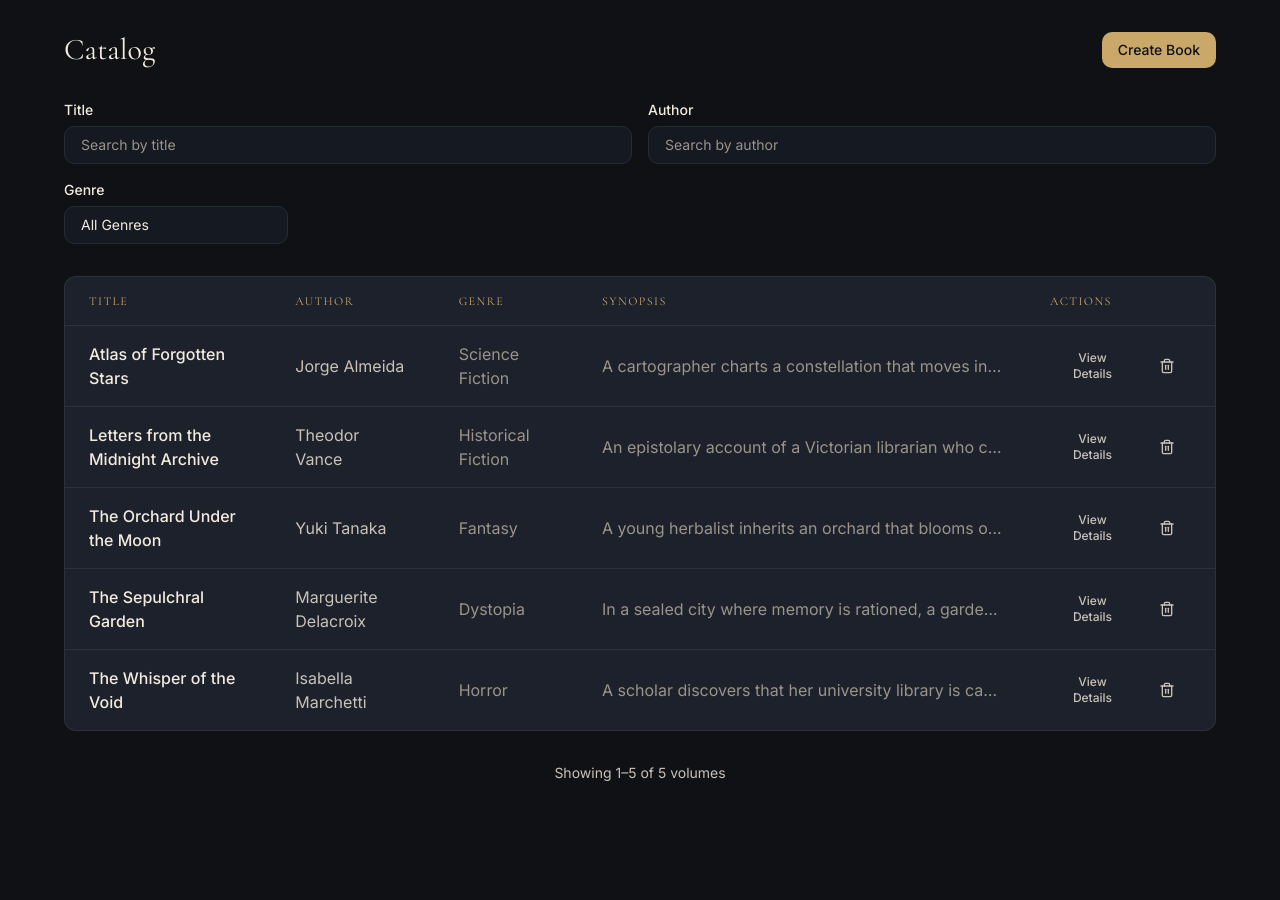
it: BooksPage › deletes multiple books sequentially
Expected: the text "The Whisper of the Void" is shown, [65,650,271,730]
Expected: the number of rows is 6, [65,277,1215,326]; [65,326,1215,406]; [65,406,1215,488]; [65,488,1215,568]; [65,568,1215,650]; [65,650,1215,730]
Click the button named "Delete The Whisper of the Void": click(1167, 690) [1143,674,1191,706]
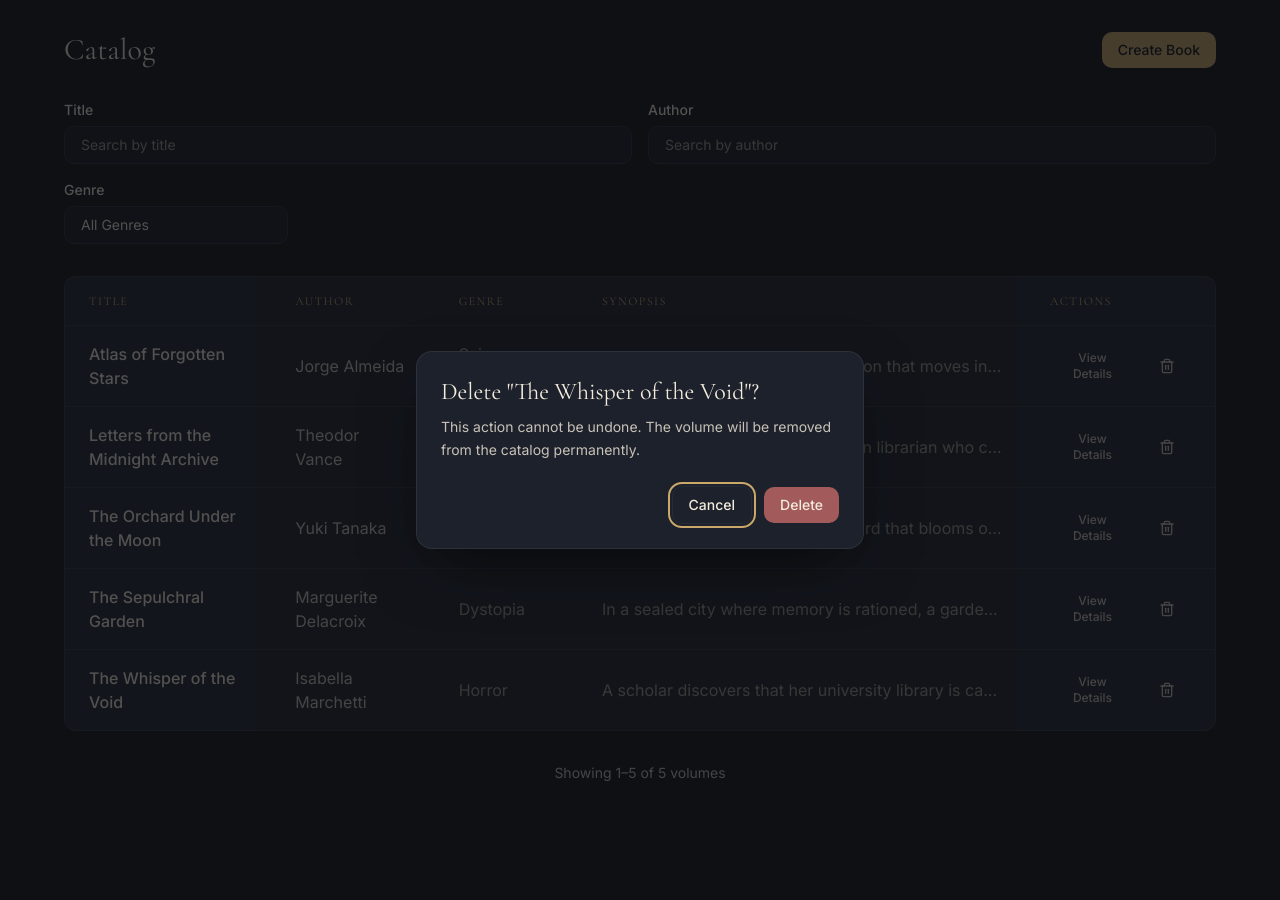
Click the button "Delete": click(802, 505) [764,487,839,523]
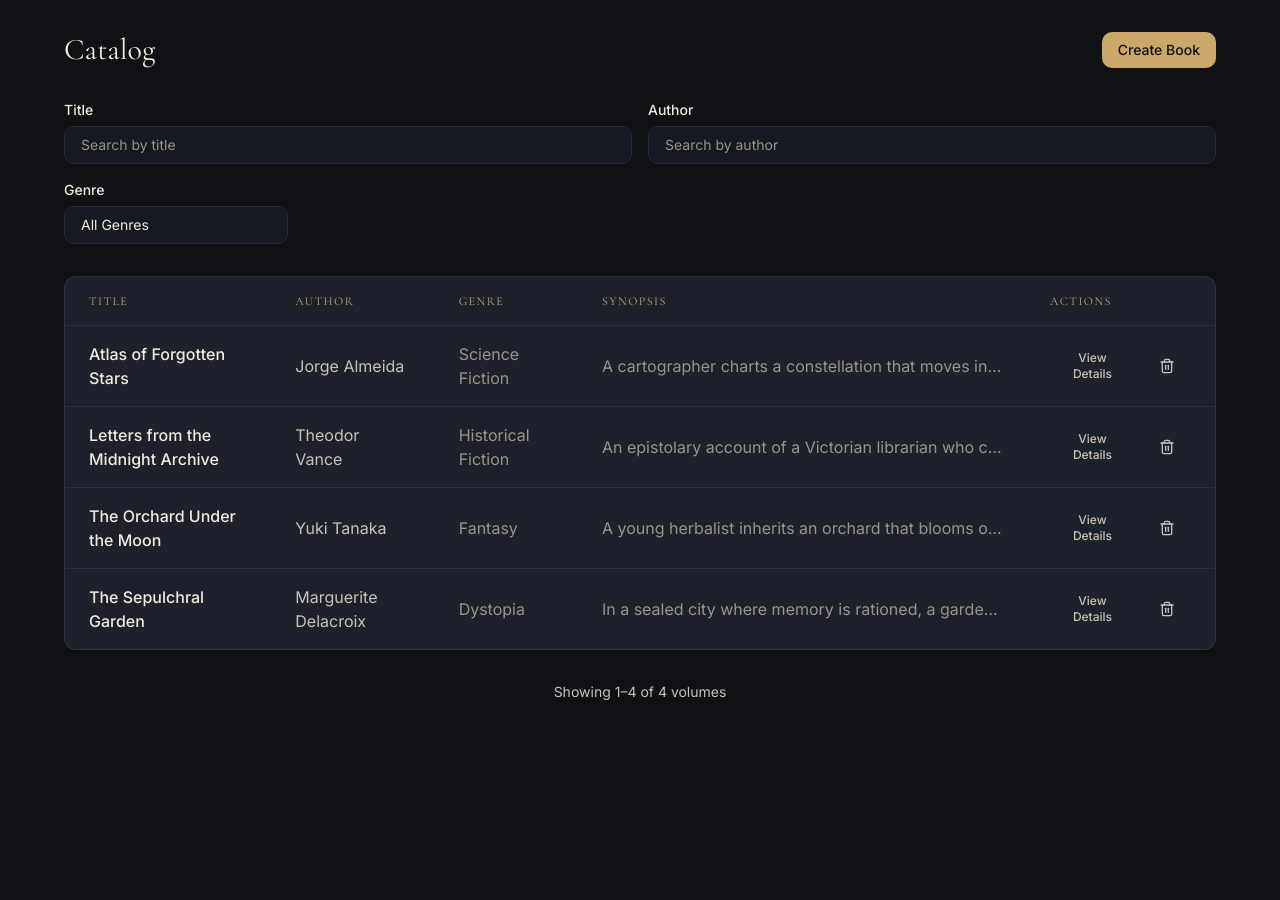
Now the text "The Whisper of the Void" is gone
Click the button named "Delete Atlas of Forgotten Stars": click(1167, 366) [1143,350,1191,382]
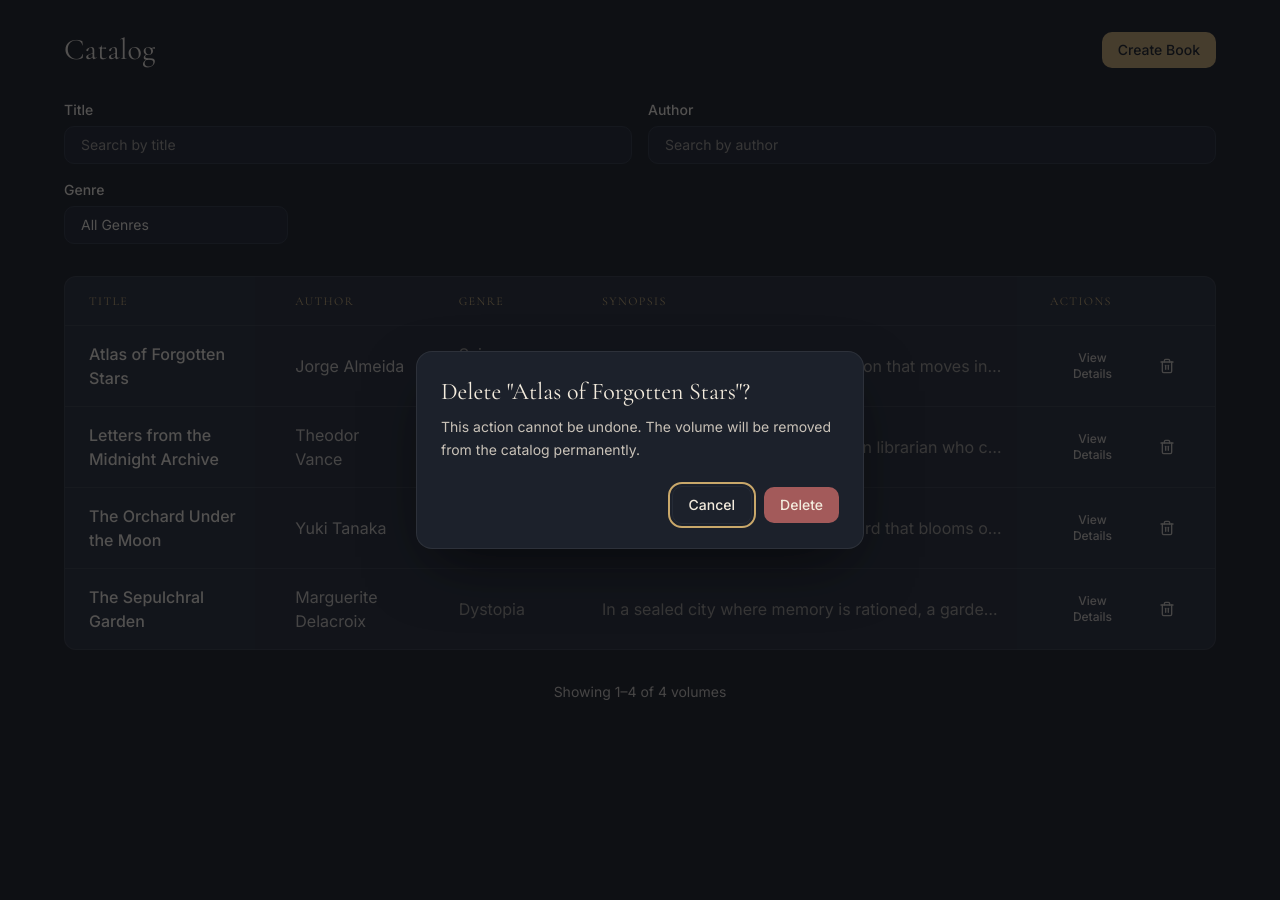
Click the button "Delete": click(802, 505) [764,487,839,523]
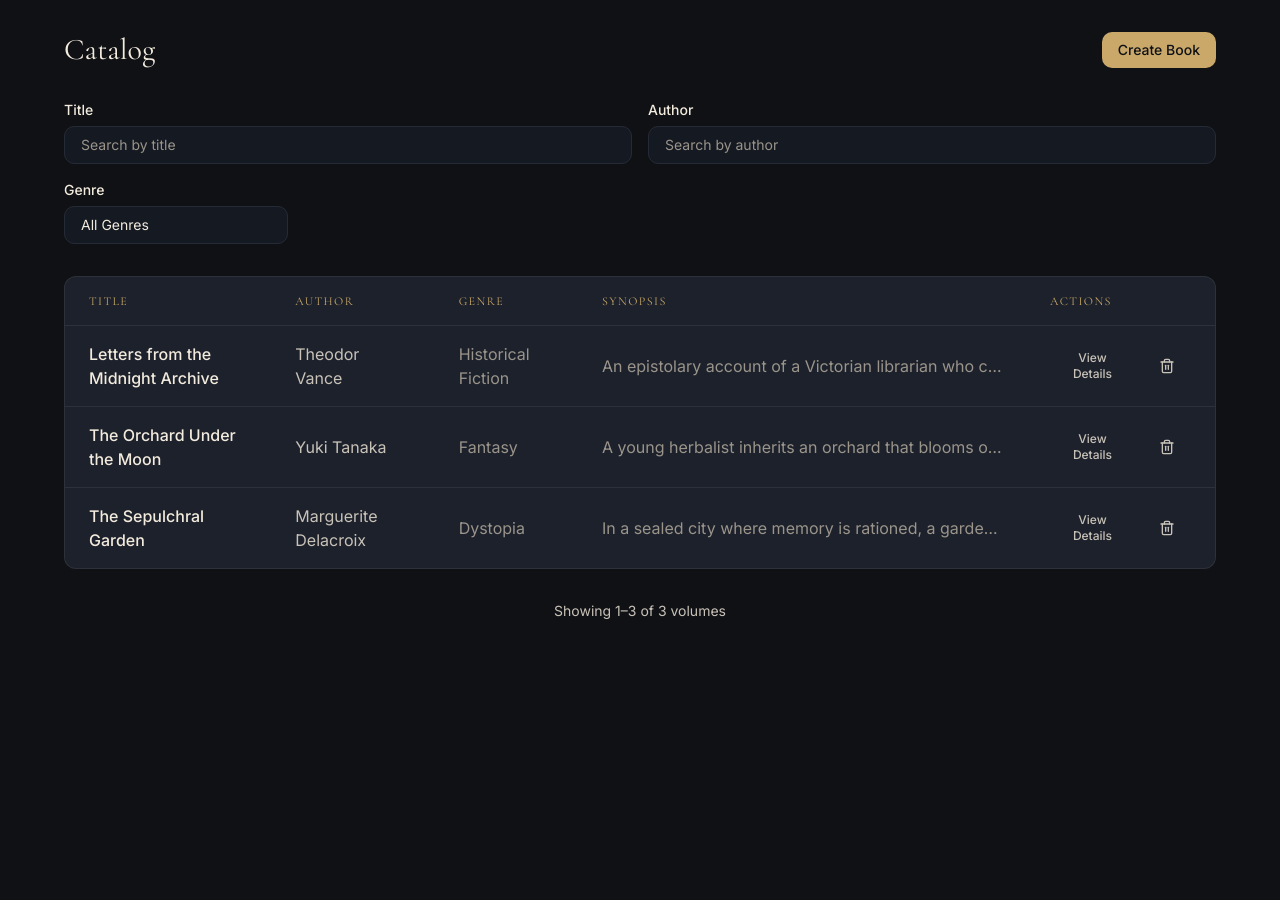
Expected: the number of rows is 4, [65,277,1215,326]; [65,326,1215,406]; [65,406,1215,488]; [65,488,1215,568]
Now the text "Atlas of Forgotten Stars" is gone
